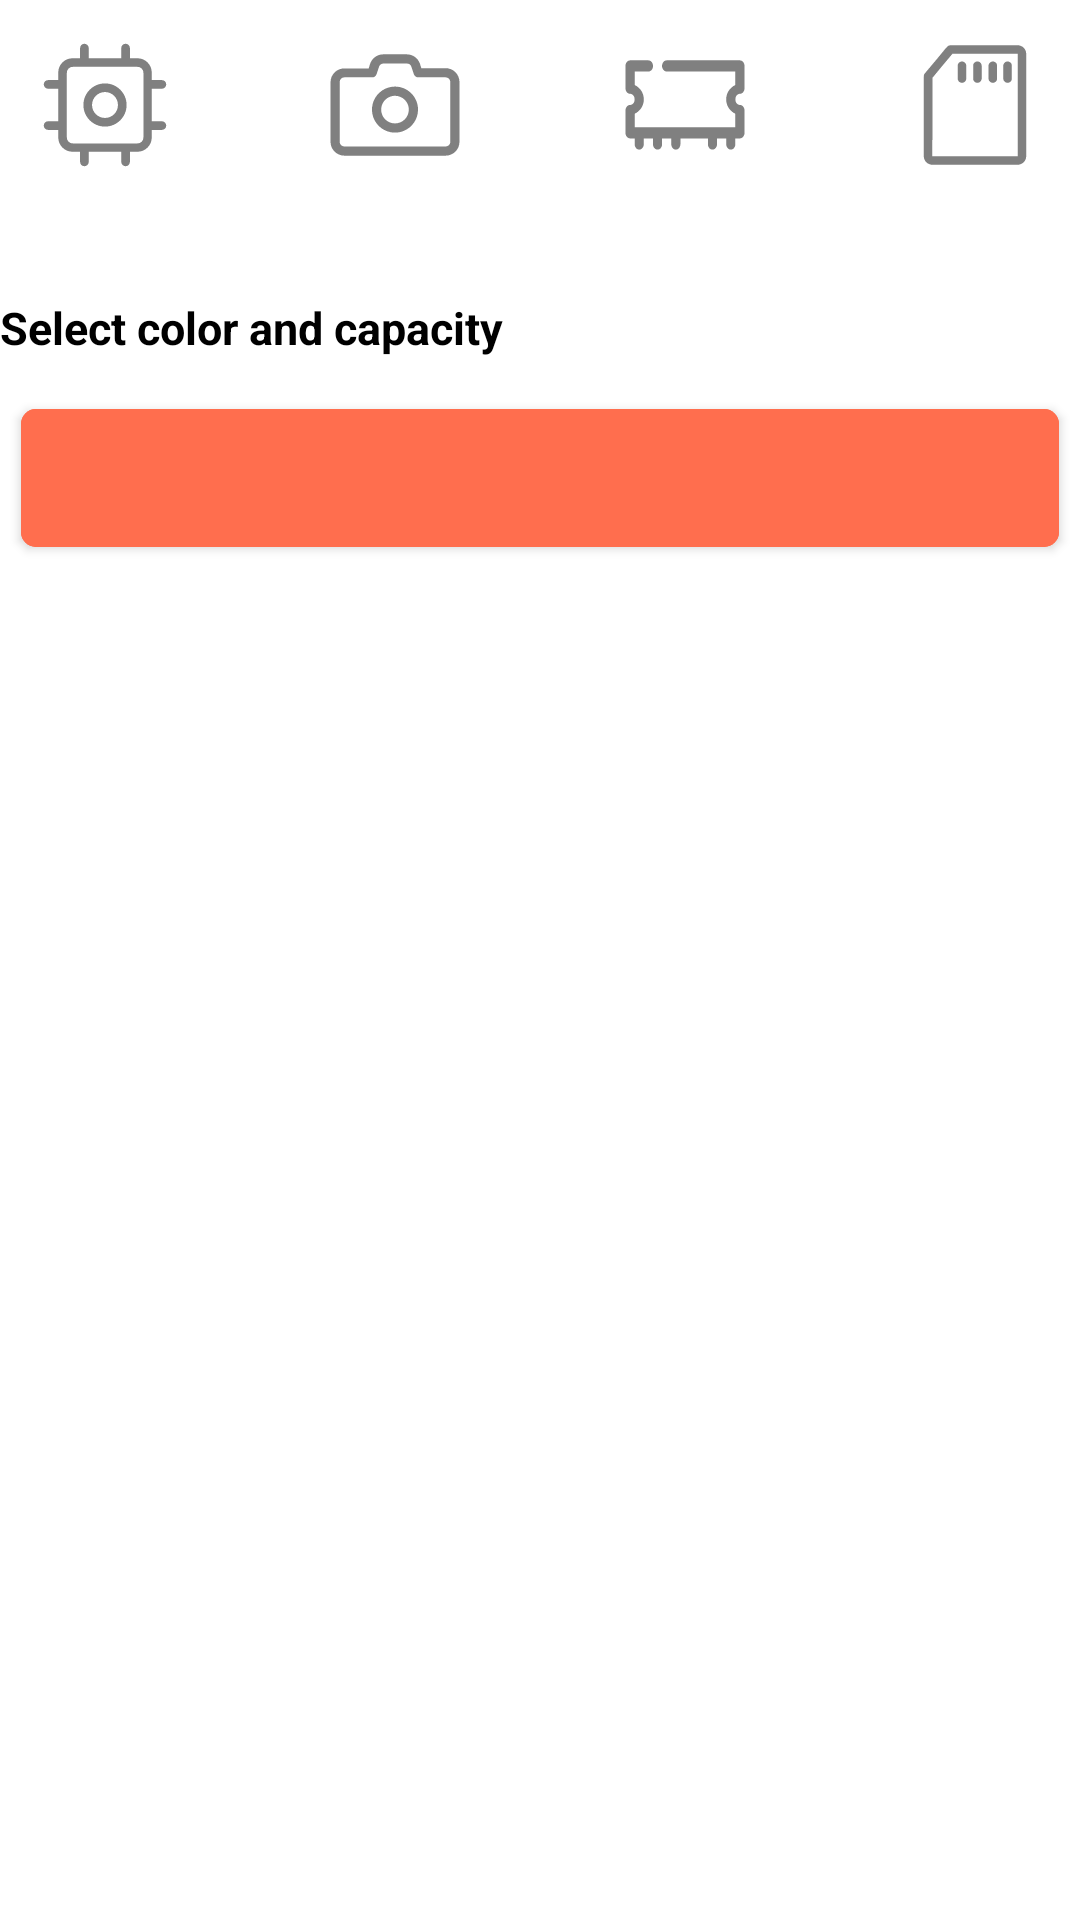

Screen size 1080px x 1920px. Icon name, then its box in pixels as box(x1, y1, x2, y2):
camera: box(330, 54, 460, 156)
cpu: box(43, 43, 167, 167)
ram: box(625, 60, 745, 150)
rom: box(923, 45, 1027, 165)
